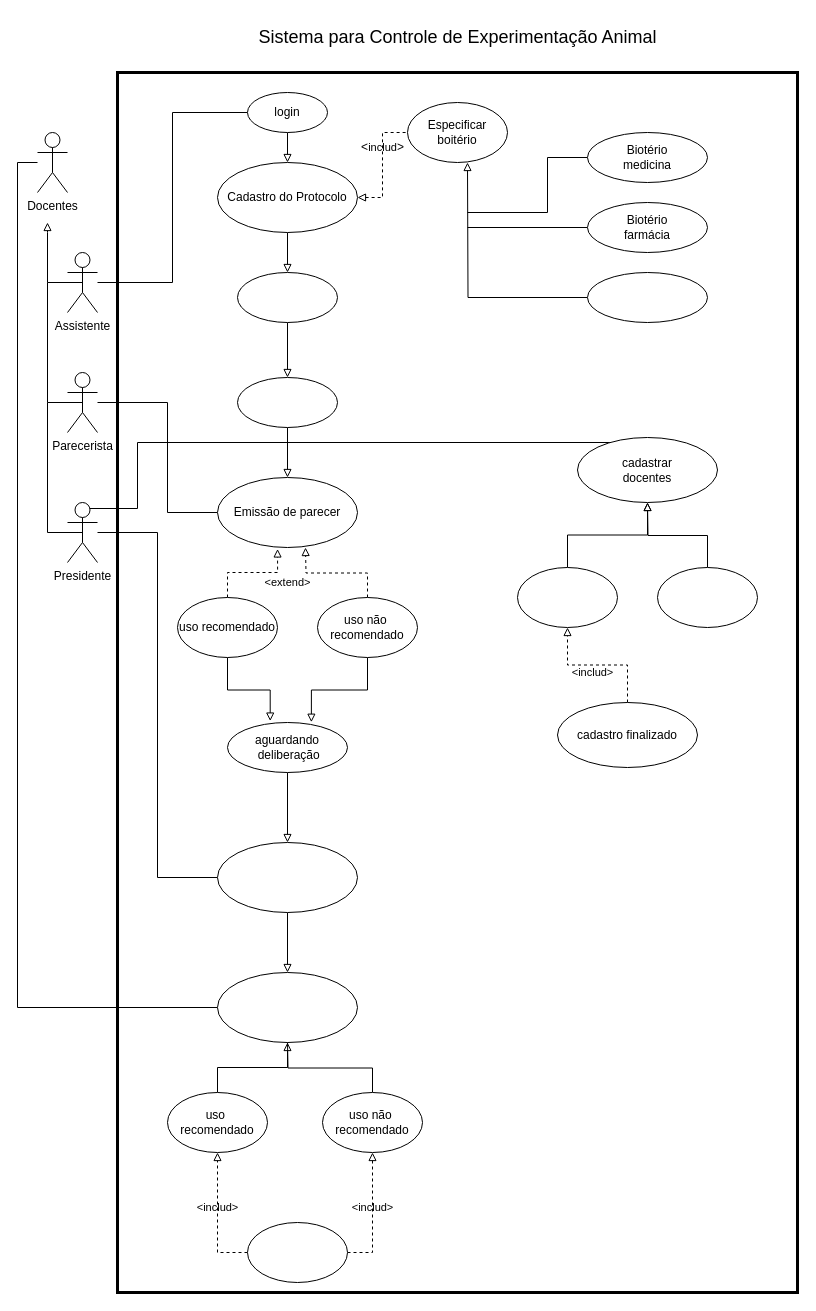
The diagram is 816 pixels wide and 1311 high, and some of its shapes have lost their labels. Each missing label, with the centre of its shape:
aguardando envio para o parecer: pixel 287 297
aguardando parecer: pixel 287 402
Biotério química: pixel 647 297
cancelar cadastro: pixel 707 597
concluir cadastro: pixel 567 597
decisão final de uso animal: pixel 287 1007
imprimir: pixel 297 1252
parecer de analize de protocolo: pixel 287 877
